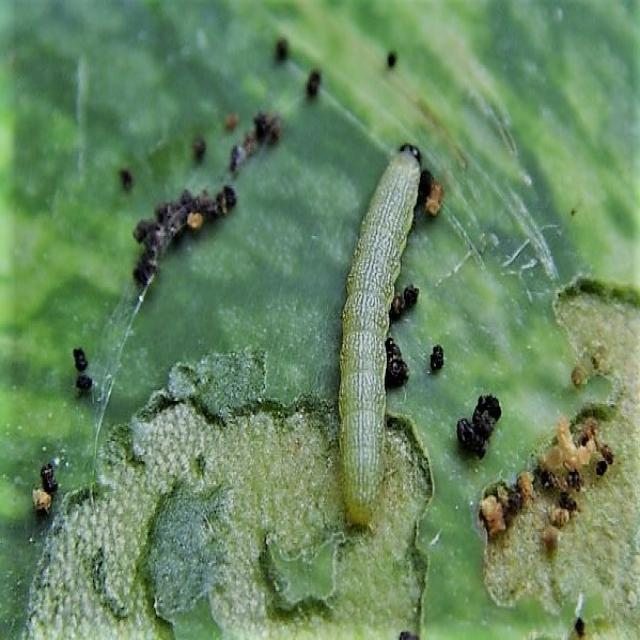armyworm: (336, 140, 423, 529)
